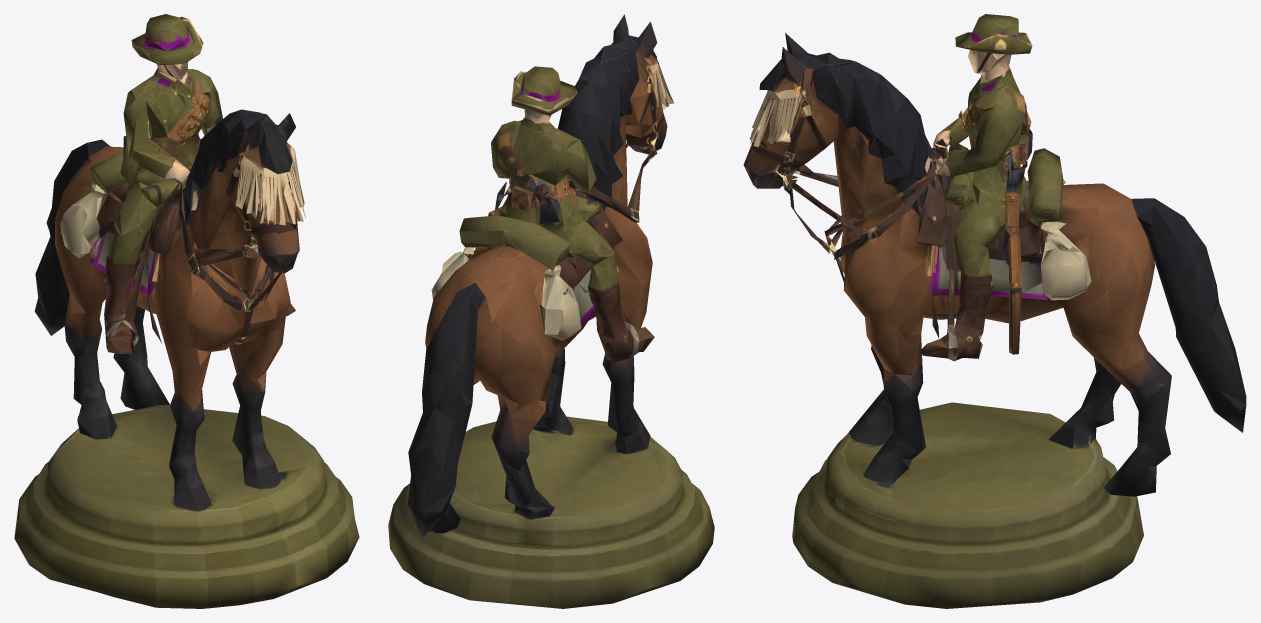
Rendered from anzac_knight.glb.
The picture shows the model from 3 angles, left to right: view 1: azimuth 30°, elevation 25°; view 2: azimuth 150°, elevation 25°; view 3: azimuth 270°, elevation 25°; orthographic projection. The views are drawn at different scales.
Bounding box in the file's own units: 1.22 × 2 × 1.76.
1 material, 1 textured.
